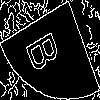B: (25, 25, 67, 75)
